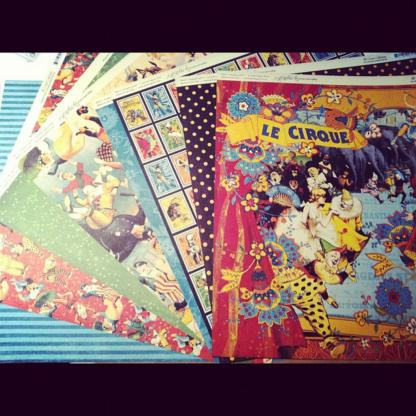book: (0, 51, 415, 362)
